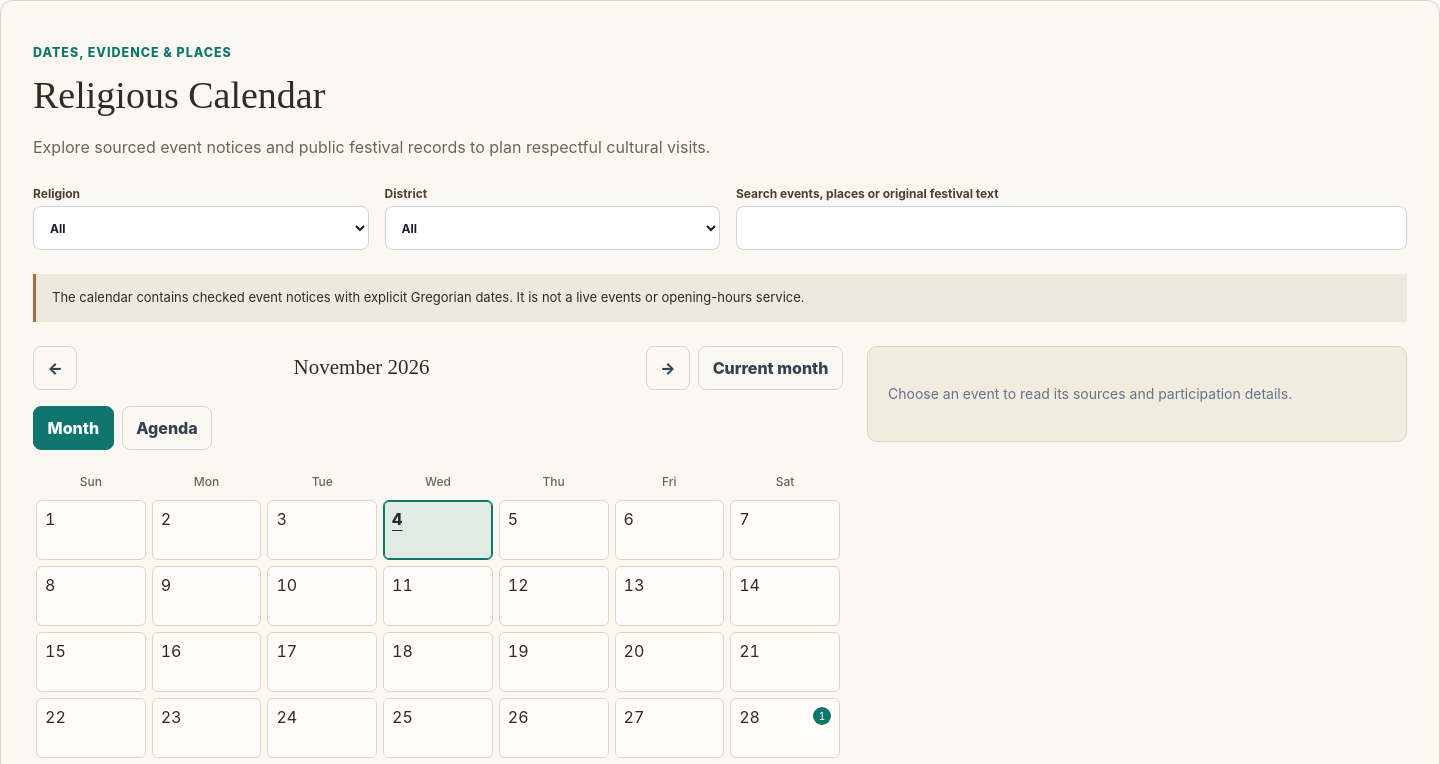
Test: religious cultural calendar › opens in the Taipei current month, navigates across months and returns to today
Expected: the heading "November 2026" is shown, x1=294 y1=355 x2=430 y2=379
Click the button named "Next month".
click(668, 368)  # box x1=646 y1=346 x2=690 y2=390
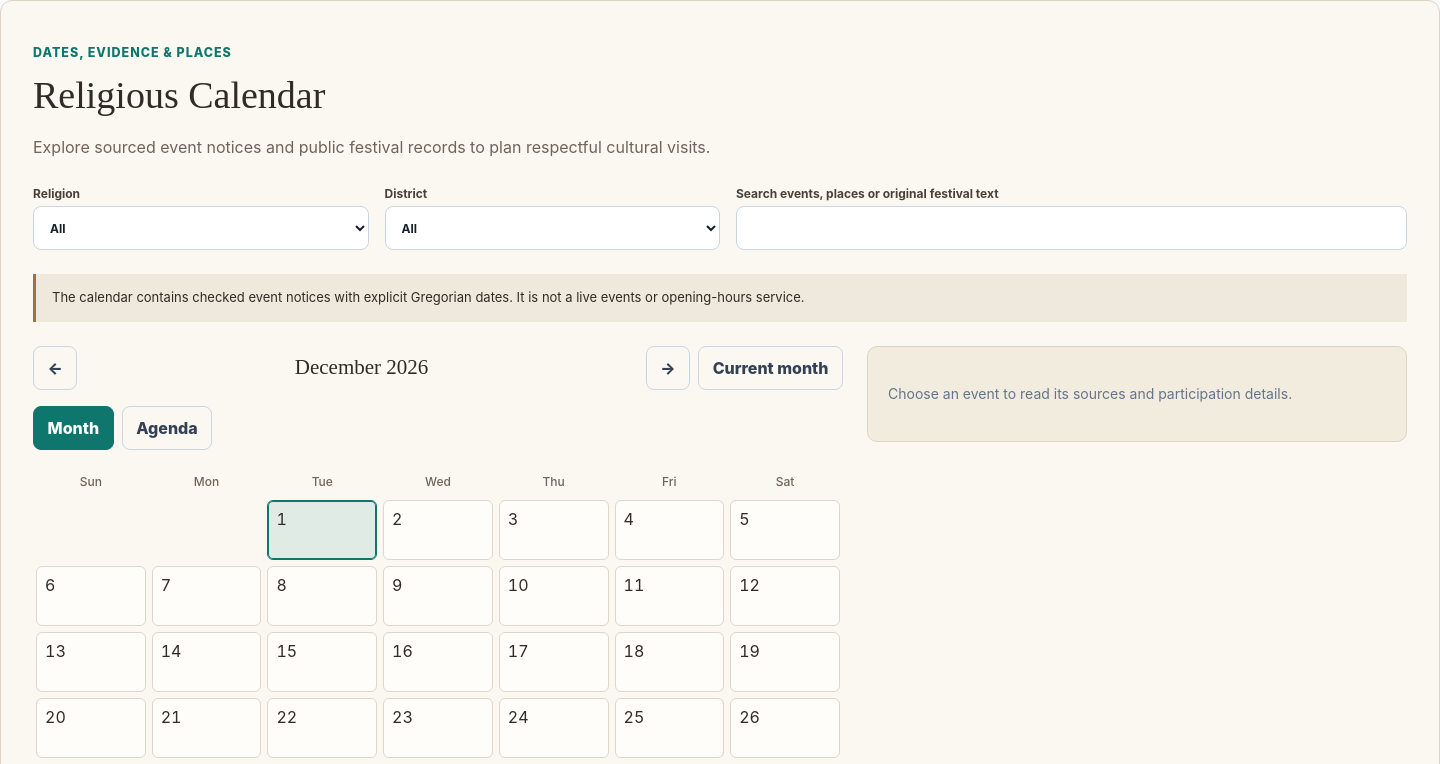
Expected: the heading "December 2026" is shown, x1=295 y1=355 x2=428 y2=379
Click the button named "Next month".
click(668, 368)  # box x1=646 y1=346 x2=690 y2=390
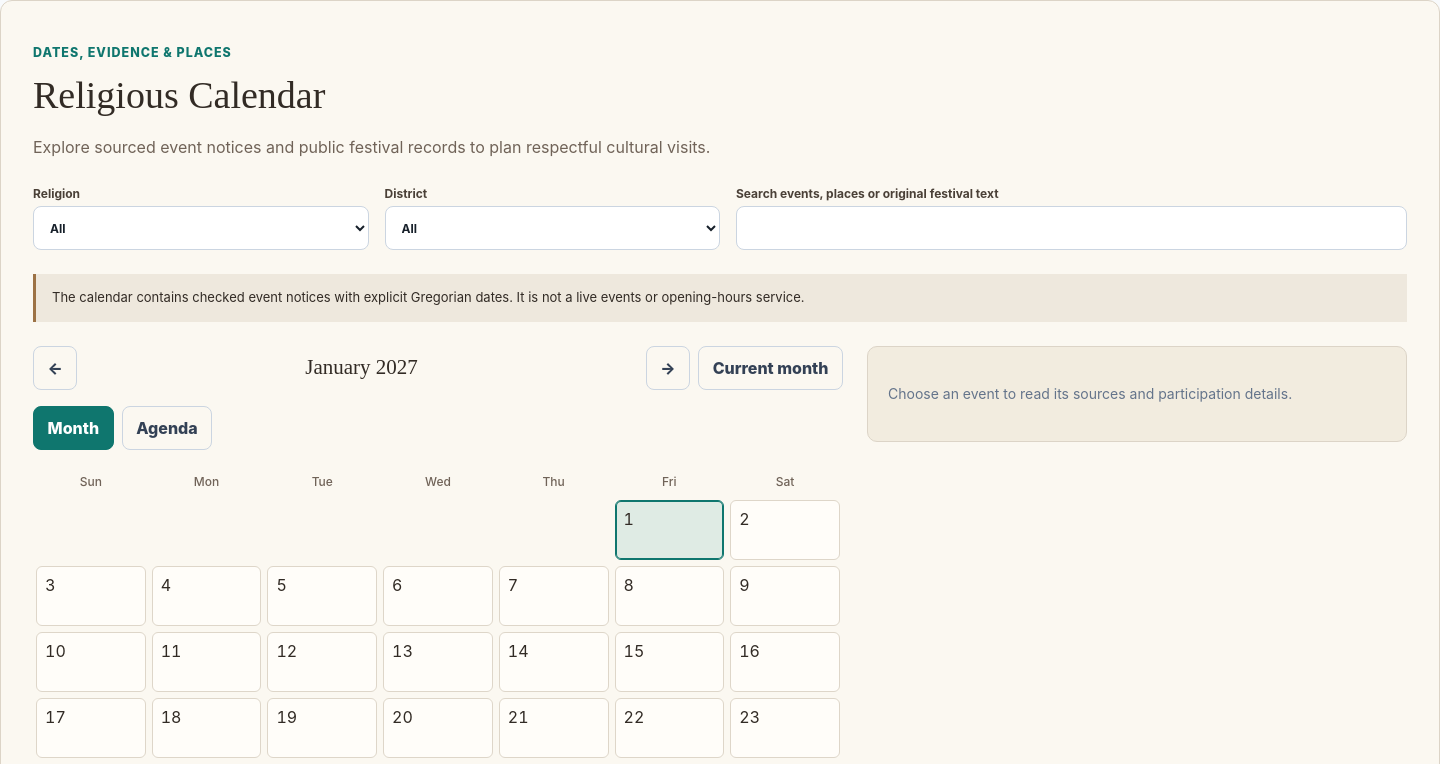
Expected: the heading "January 2027" is shown, x1=305 y1=355 x2=418 y2=379
Click the button named "Previous month".
click(55, 368)  # box x1=33 y1=346 x2=78 y2=390
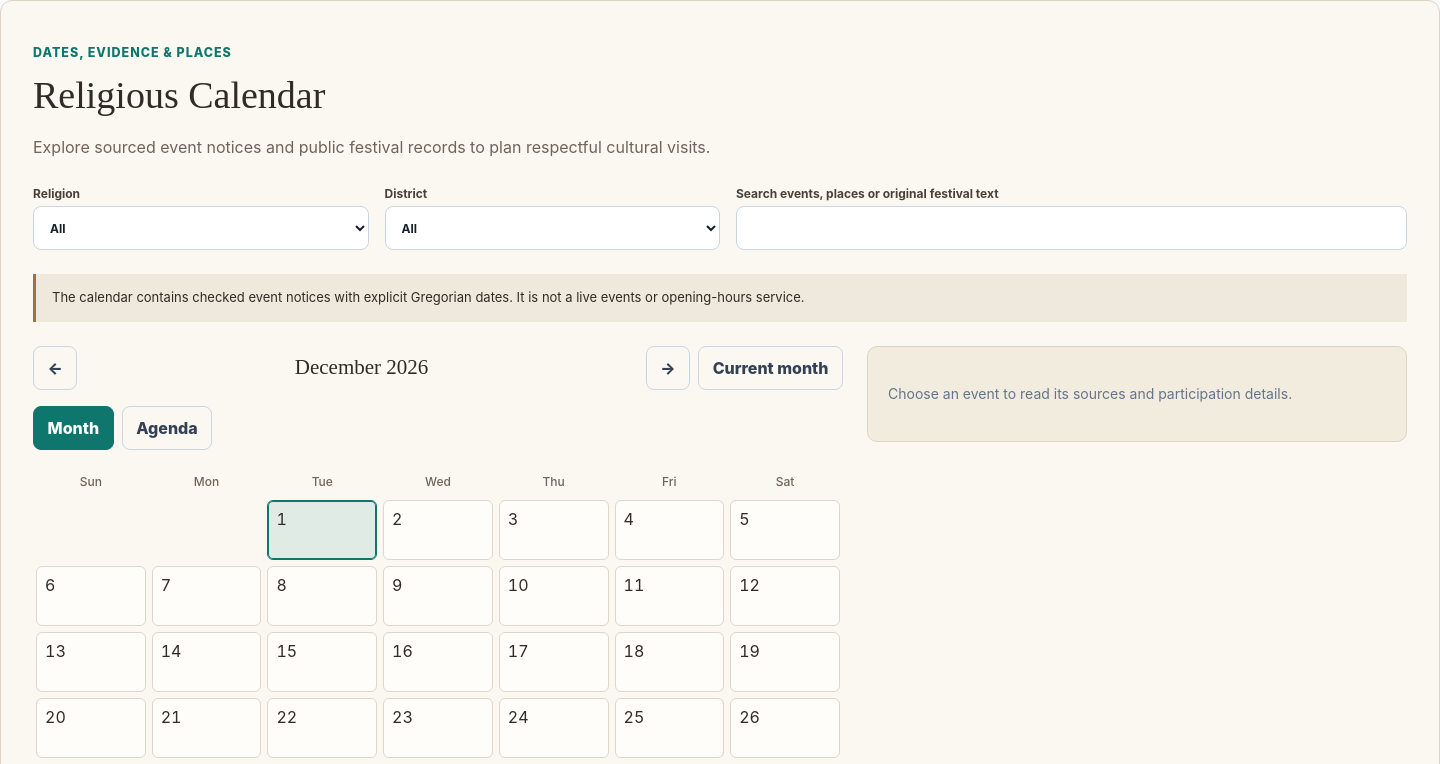
Expected: the heading "December 2026" is shown, x1=295 y1=355 x2=428 y2=379
Click the button "Current month".
click(771, 368)  # box x1=698 y1=346 x2=843 y2=390
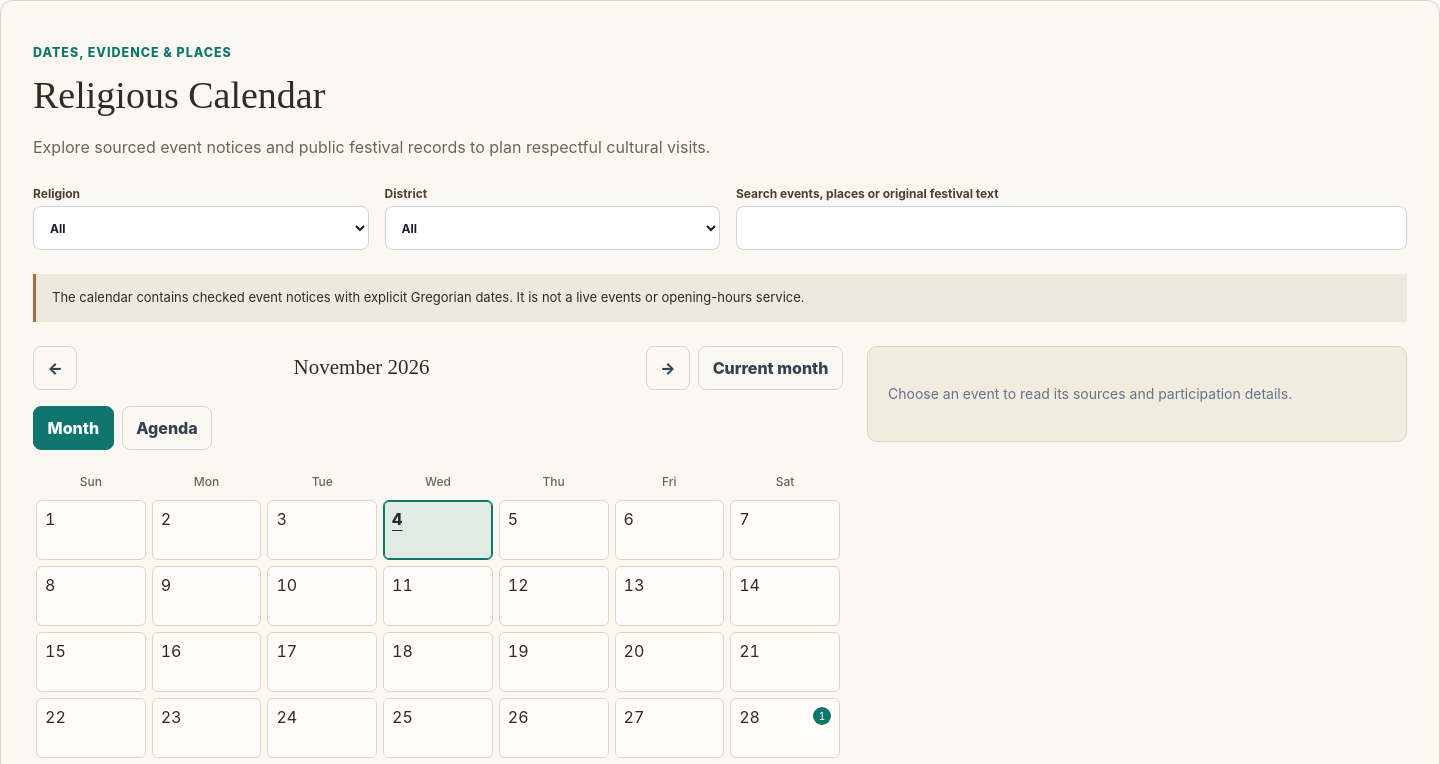
Expected: the heading "November 2026" is shown, x1=294 y1=355 x2=430 y2=379
